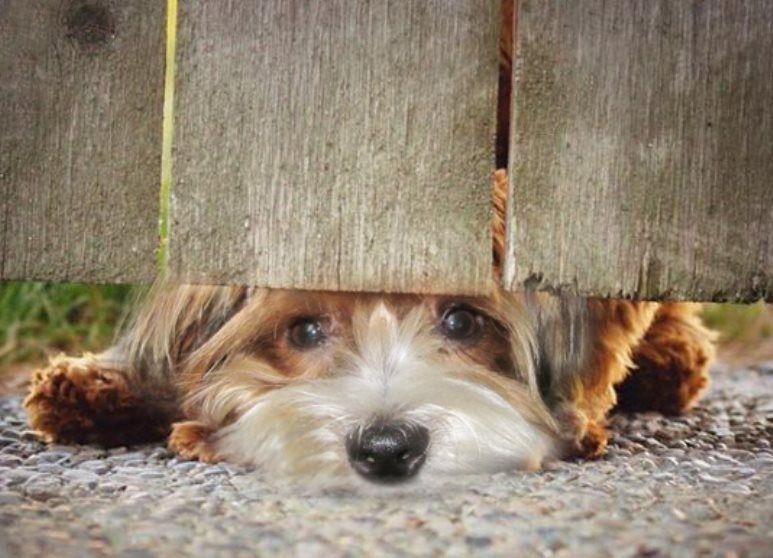adult_dog: (27, 288, 718, 490)
